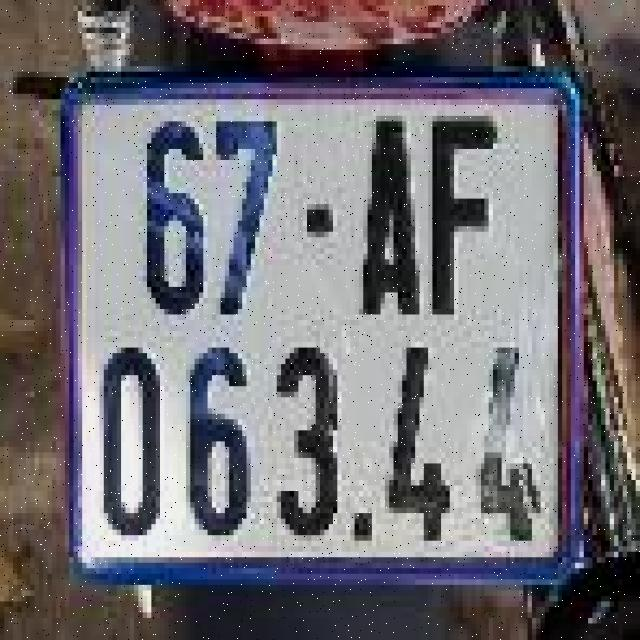0: (91, 339, 173, 549)
3: (270, 337, 348, 546)
4: (474, 328, 547, 549), (387, 336, 461, 552)
6: (138, 113, 212, 317), (184, 340, 257, 544)
7: (214, 105, 279, 320)
A: (361, 108, 426, 328)
F: (428, 108, 506, 328)
